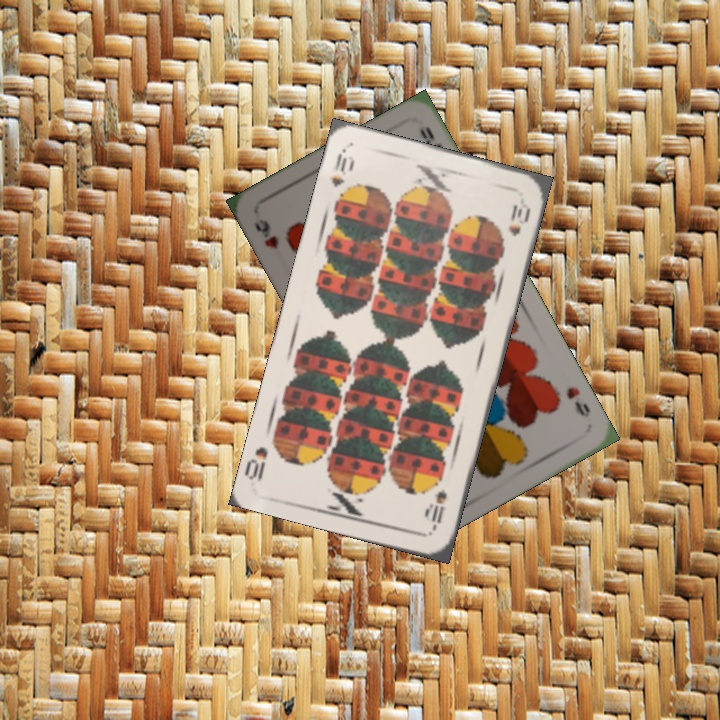H9: (250, 215, 282, 252), (562, 382, 593, 420)
S10: (327, 146, 357, 190), (425, 485, 450, 533)
